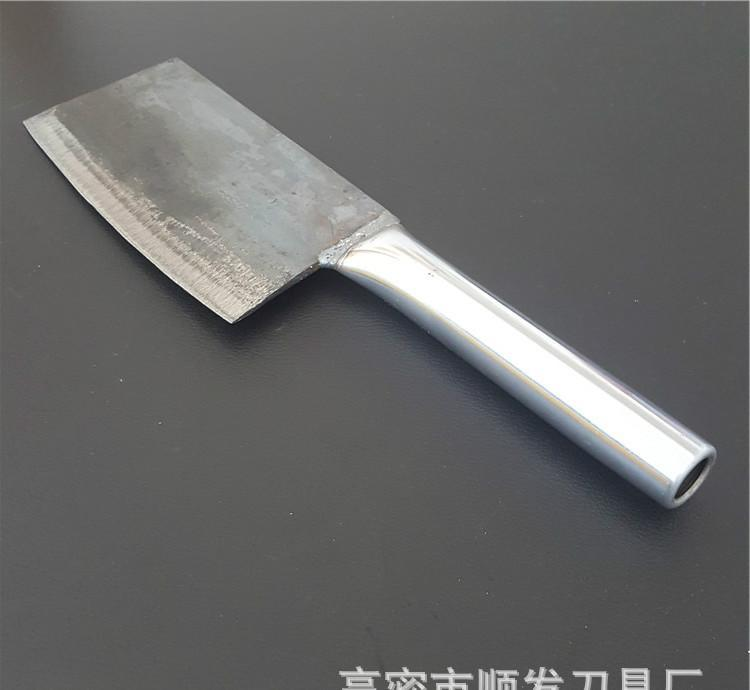knief: (23, 58, 707, 503)
